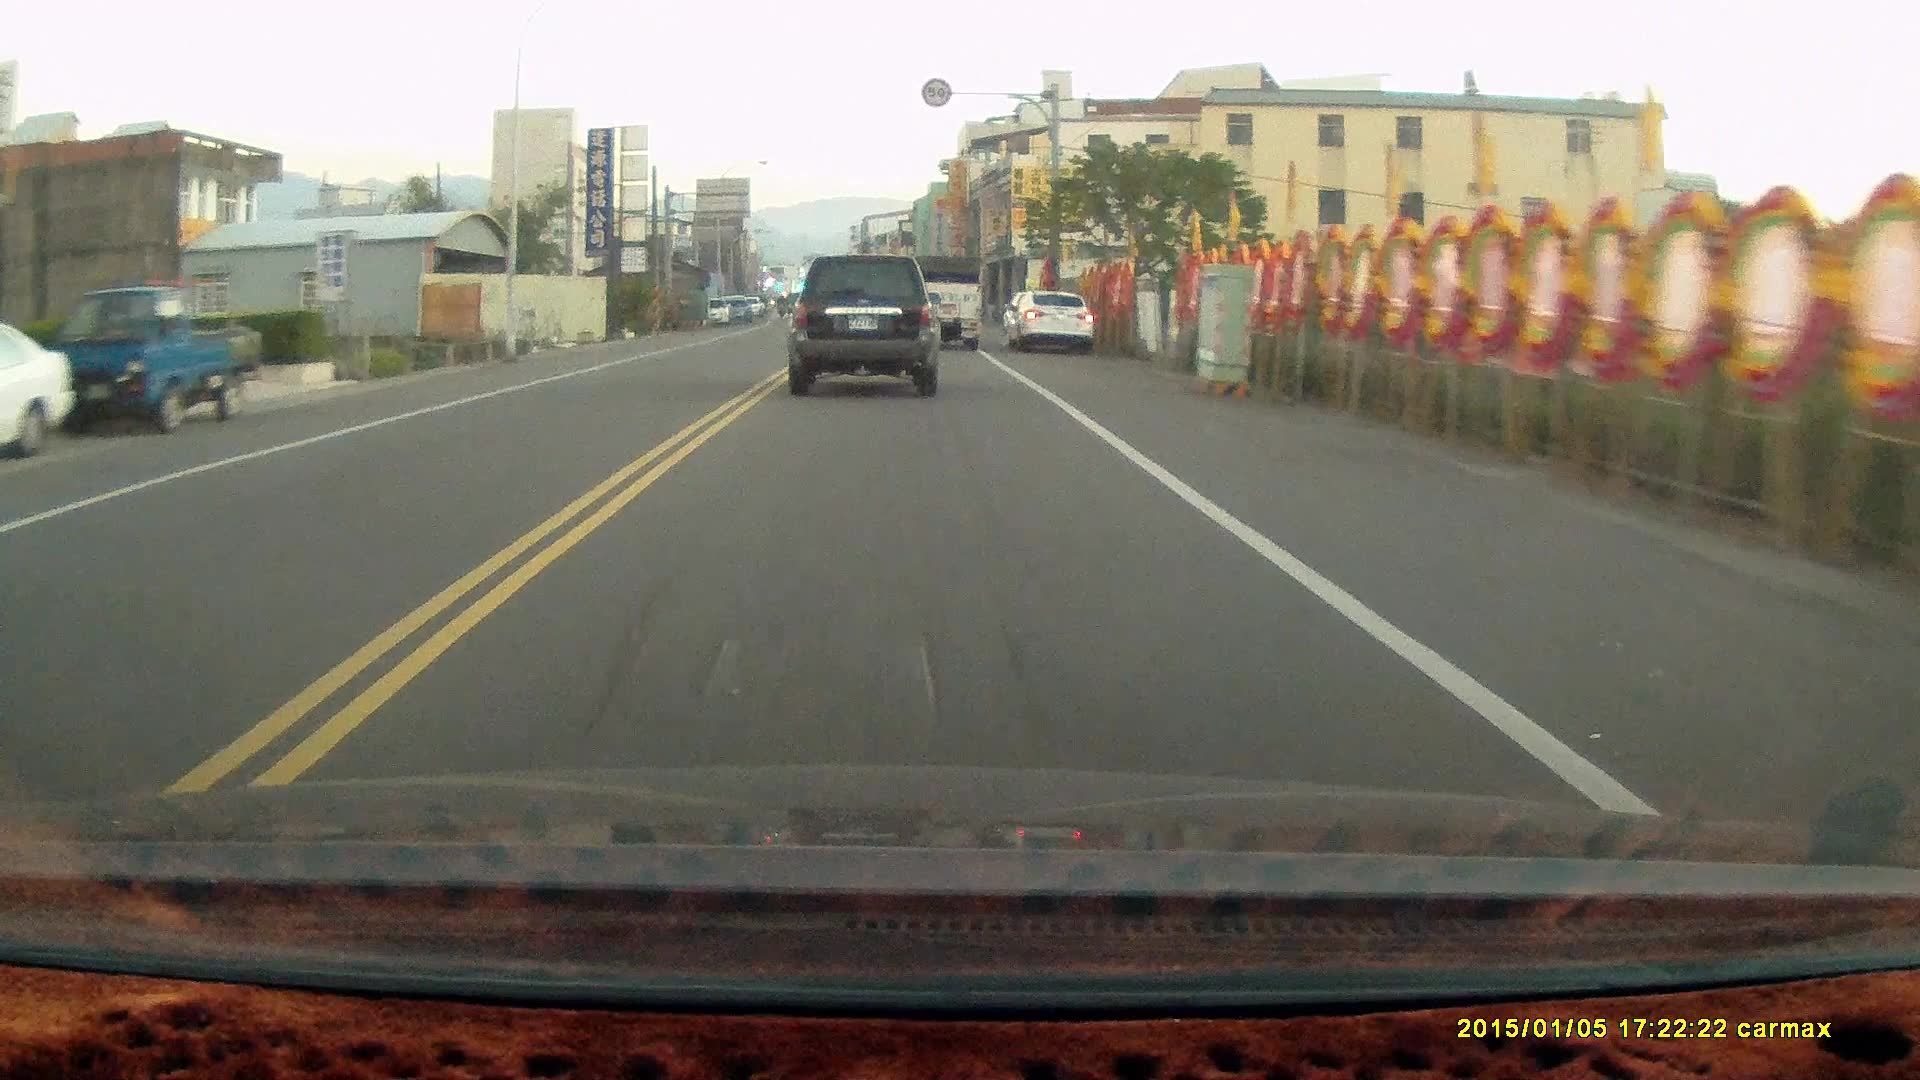vehicle: (47, 286, 258, 439), (790, 258, 940, 404), (1, 318, 76, 458), (911, 255, 988, 352), (1007, 289, 1098, 353)
